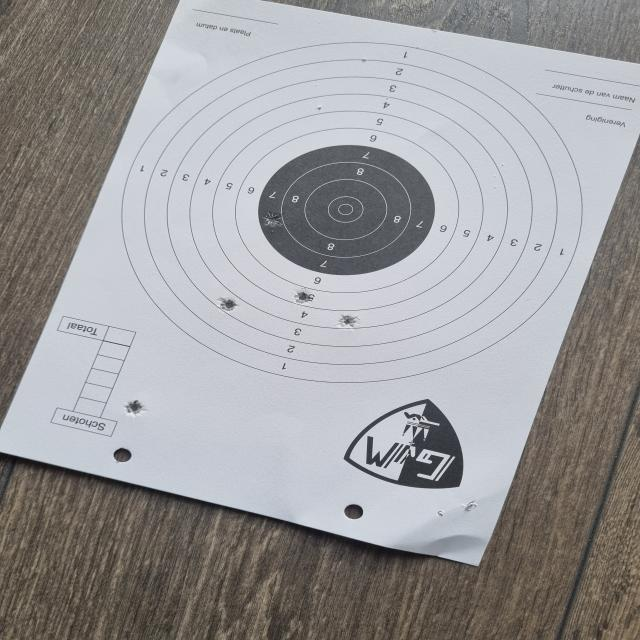0: (121, 398, 146, 417)
4: (334, 312, 360, 332), (216, 295, 240, 313)
5: (290, 288, 314, 304)
8: (262, 211, 286, 228)
Target: (123, 42, 582, 384)
black_contour: (260, 140, 438, 276)
